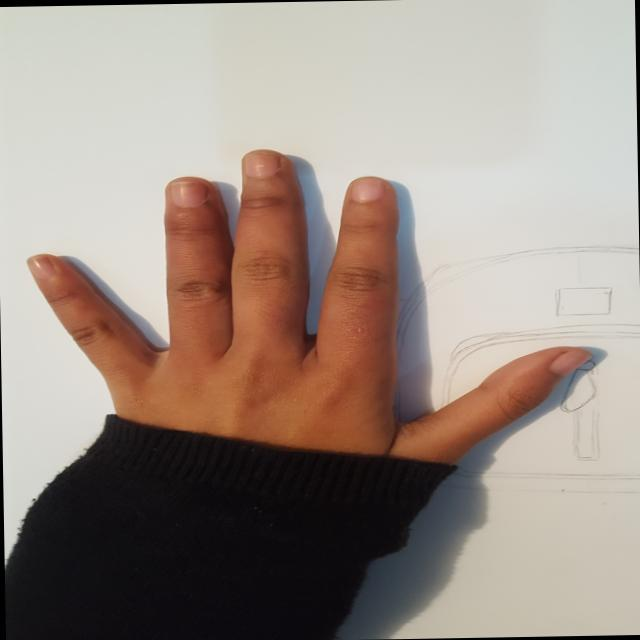Nail: (169, 180, 209, 206), (244, 152, 280, 177), (351, 177, 387, 201), (548, 352, 585, 375), (28, 254, 55, 279)
